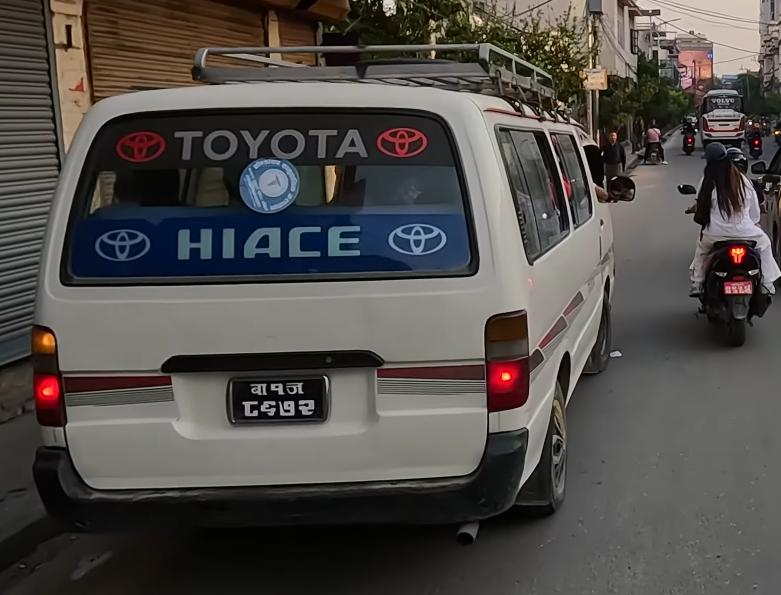bus: (697, 87, 750, 150)
micro_bus: (22, 35, 641, 553)
scooter: (693, 229, 770, 346)
